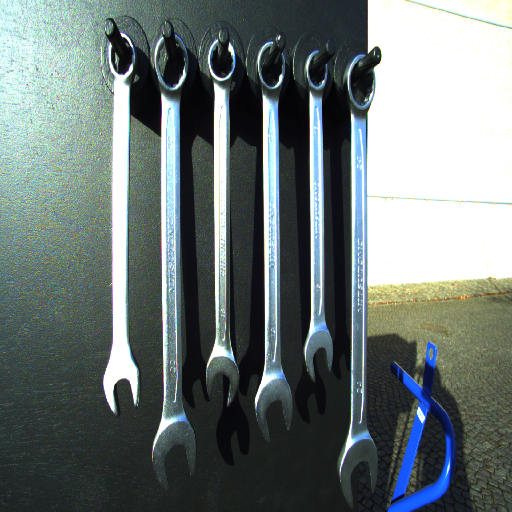bottom: (334, 435, 379, 510), (151, 422, 197, 490), (253, 378, 293, 444), (101, 362, 143, 415), (203, 351, 239, 408), (301, 328, 334, 383)
top: (151, 32, 192, 92), (342, 51, 378, 114), (104, 31, 139, 81), (204, 34, 238, 82), (255, 40, 287, 90), (302, 47, 330, 93)
